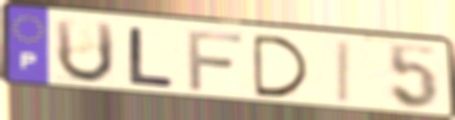5: (383, 44, 443, 113)
D: (249, 32, 313, 100)
F: (184, 28, 246, 93)
I: (335, 39, 354, 106)
L: (126, 25, 176, 90)
U: (52, 17, 117, 86)
